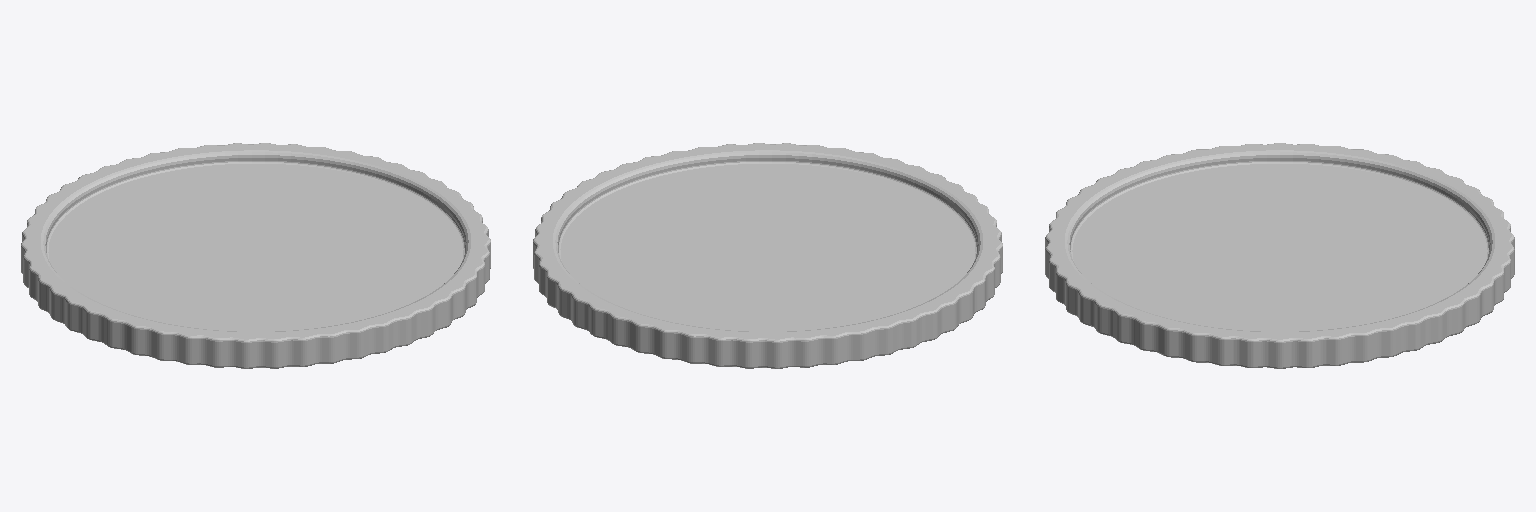
The model's file is coin.obj.
3 renders of one model, left to right at view 1: azimuth 30°, elevation 25°; view 2: azimuth 150°, elevation 25°; view 3: azimuth 270°, elevation 25°, orthographic.
Parts seen in each view (by area): view 1: Cylinder; view 2: Cylinder; view 3: Cylinder.
Boxes of the visible parts, x1=… form: Cylinder: x1=21, y1=143, x2=490, y2=368; Cylinder: x1=533, y1=143, x2=1002, y2=368; Cylinder: x1=1045, y1=143, x2=1514, y2=368.
Size of the model in its own units: 2.04 by 0.14 by 2.03.